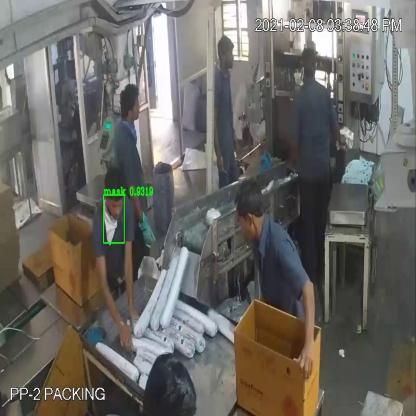glove: (127, 178, 158, 250)
no_glove: (94, 247, 132, 353), (295, 268, 318, 384), (124, 235, 144, 329)
